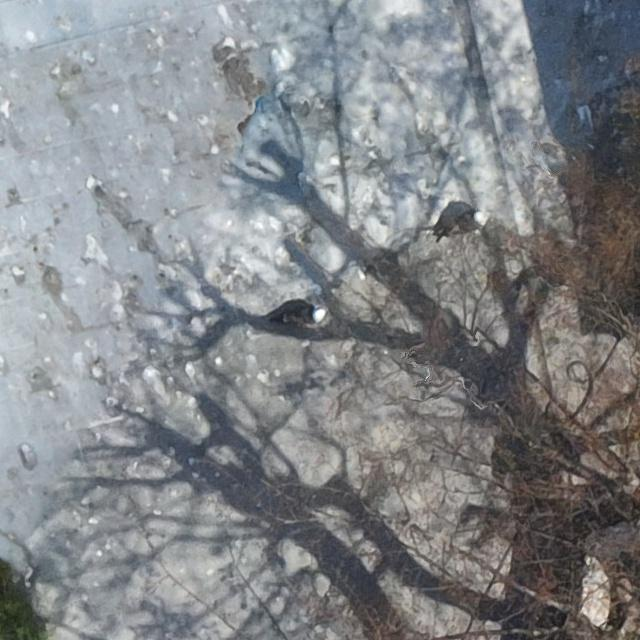umineko: (278, 306, 332, 324), (446, 212, 483, 232)
